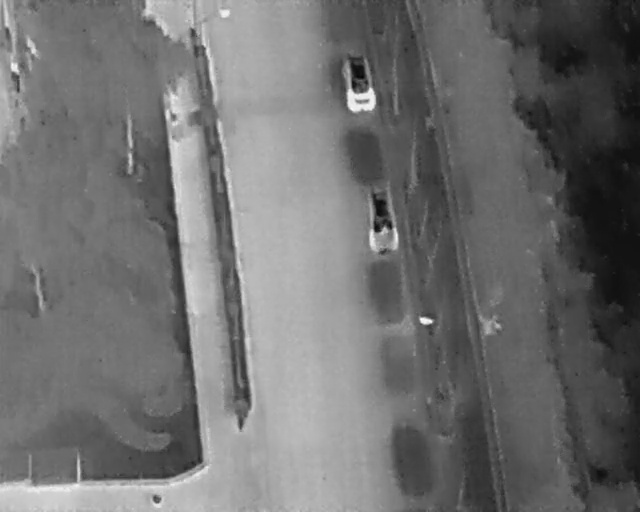Car: (340, 52, 378, 115), (366, 183, 399, 254)
